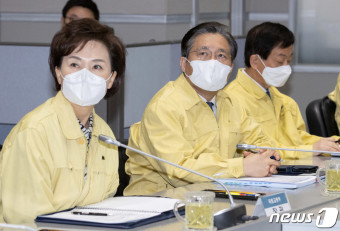mask: (62, 68, 106, 106), (189, 59, 232, 91), (261, 65, 292, 87)
